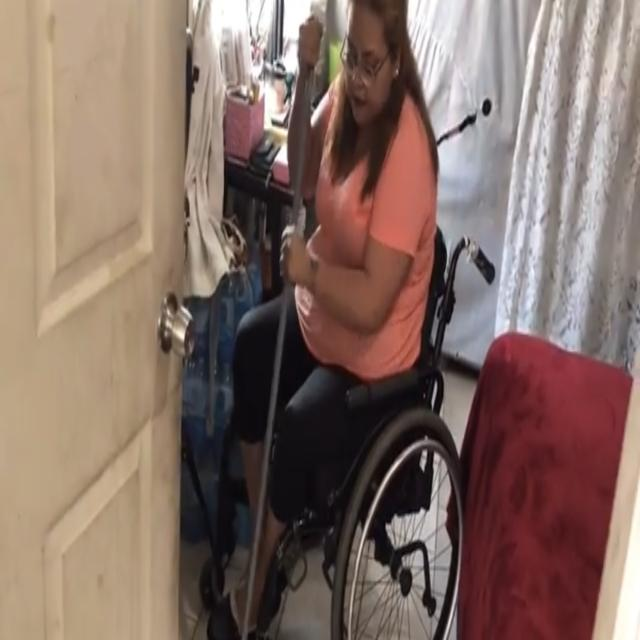wheelchairs: (210, 94, 497, 640)
